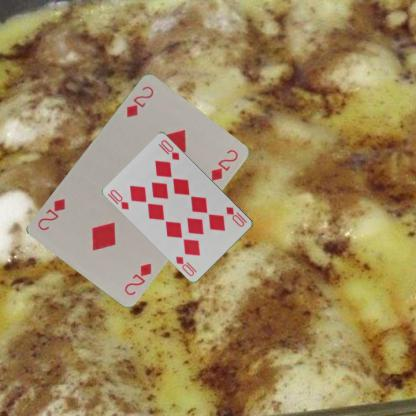10d: (224, 204, 248, 228), (108, 187, 131, 211)
2d: (121, 260, 153, 296), (124, 82, 154, 118)
